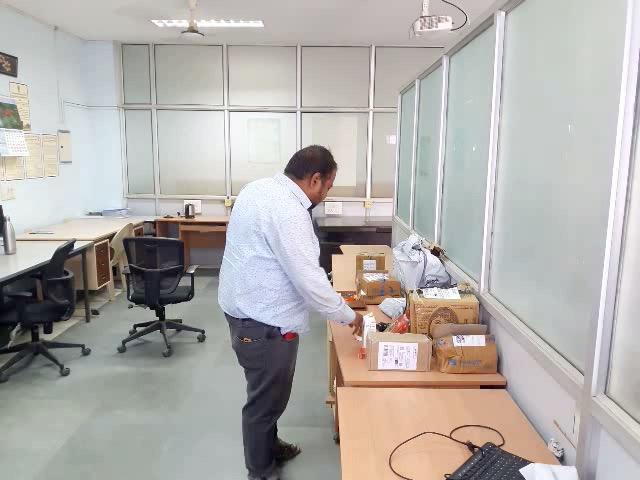shoplifting: (186, 285, 376, 451)
